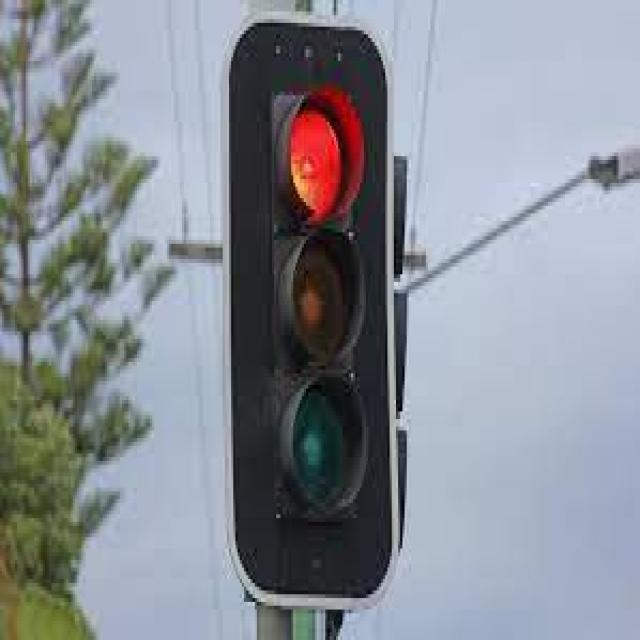red: (238, 23, 389, 576)
